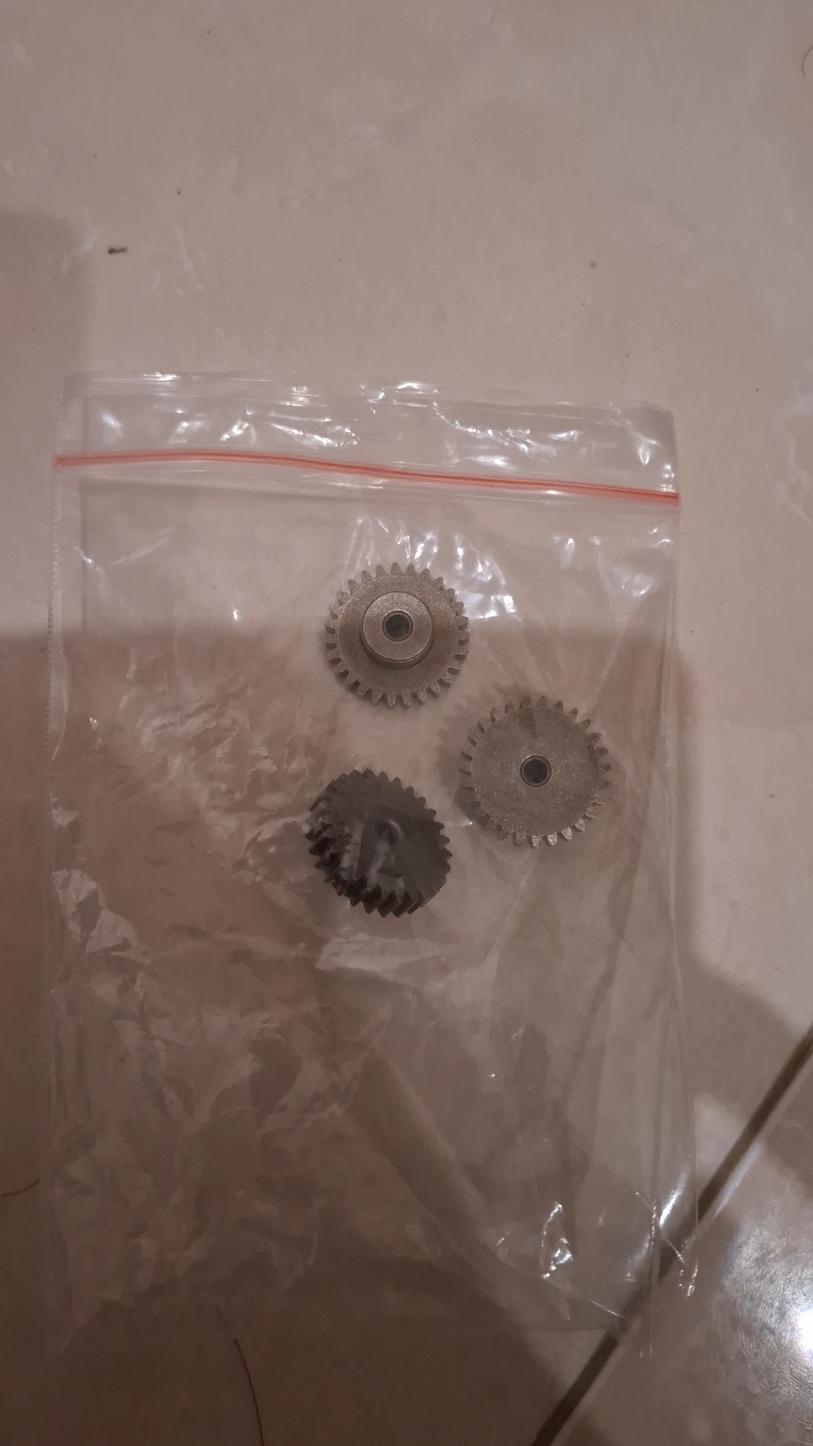spur gear: (453, 694, 614, 850), (301, 767, 453, 918), (319, 561, 471, 709)
